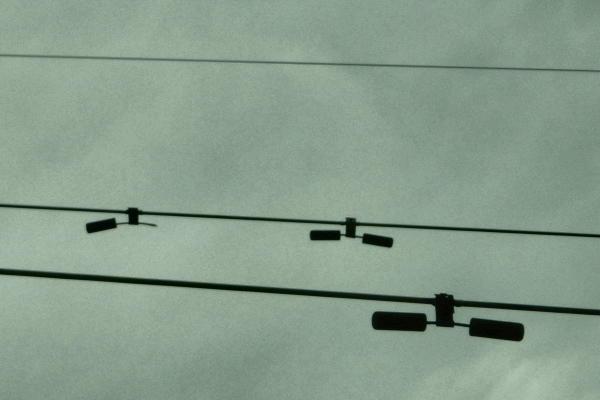damper: (367, 289, 525, 342), (303, 214, 395, 249)
damper_defect: (83, 206, 160, 235)
